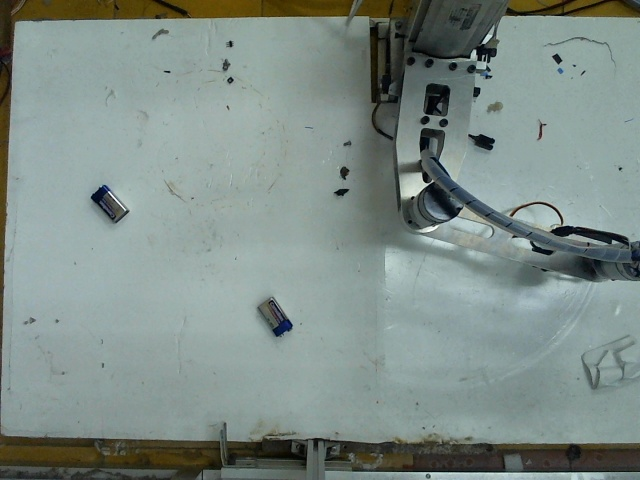battery: (251, 298, 298, 340), (88, 181, 127, 219)
